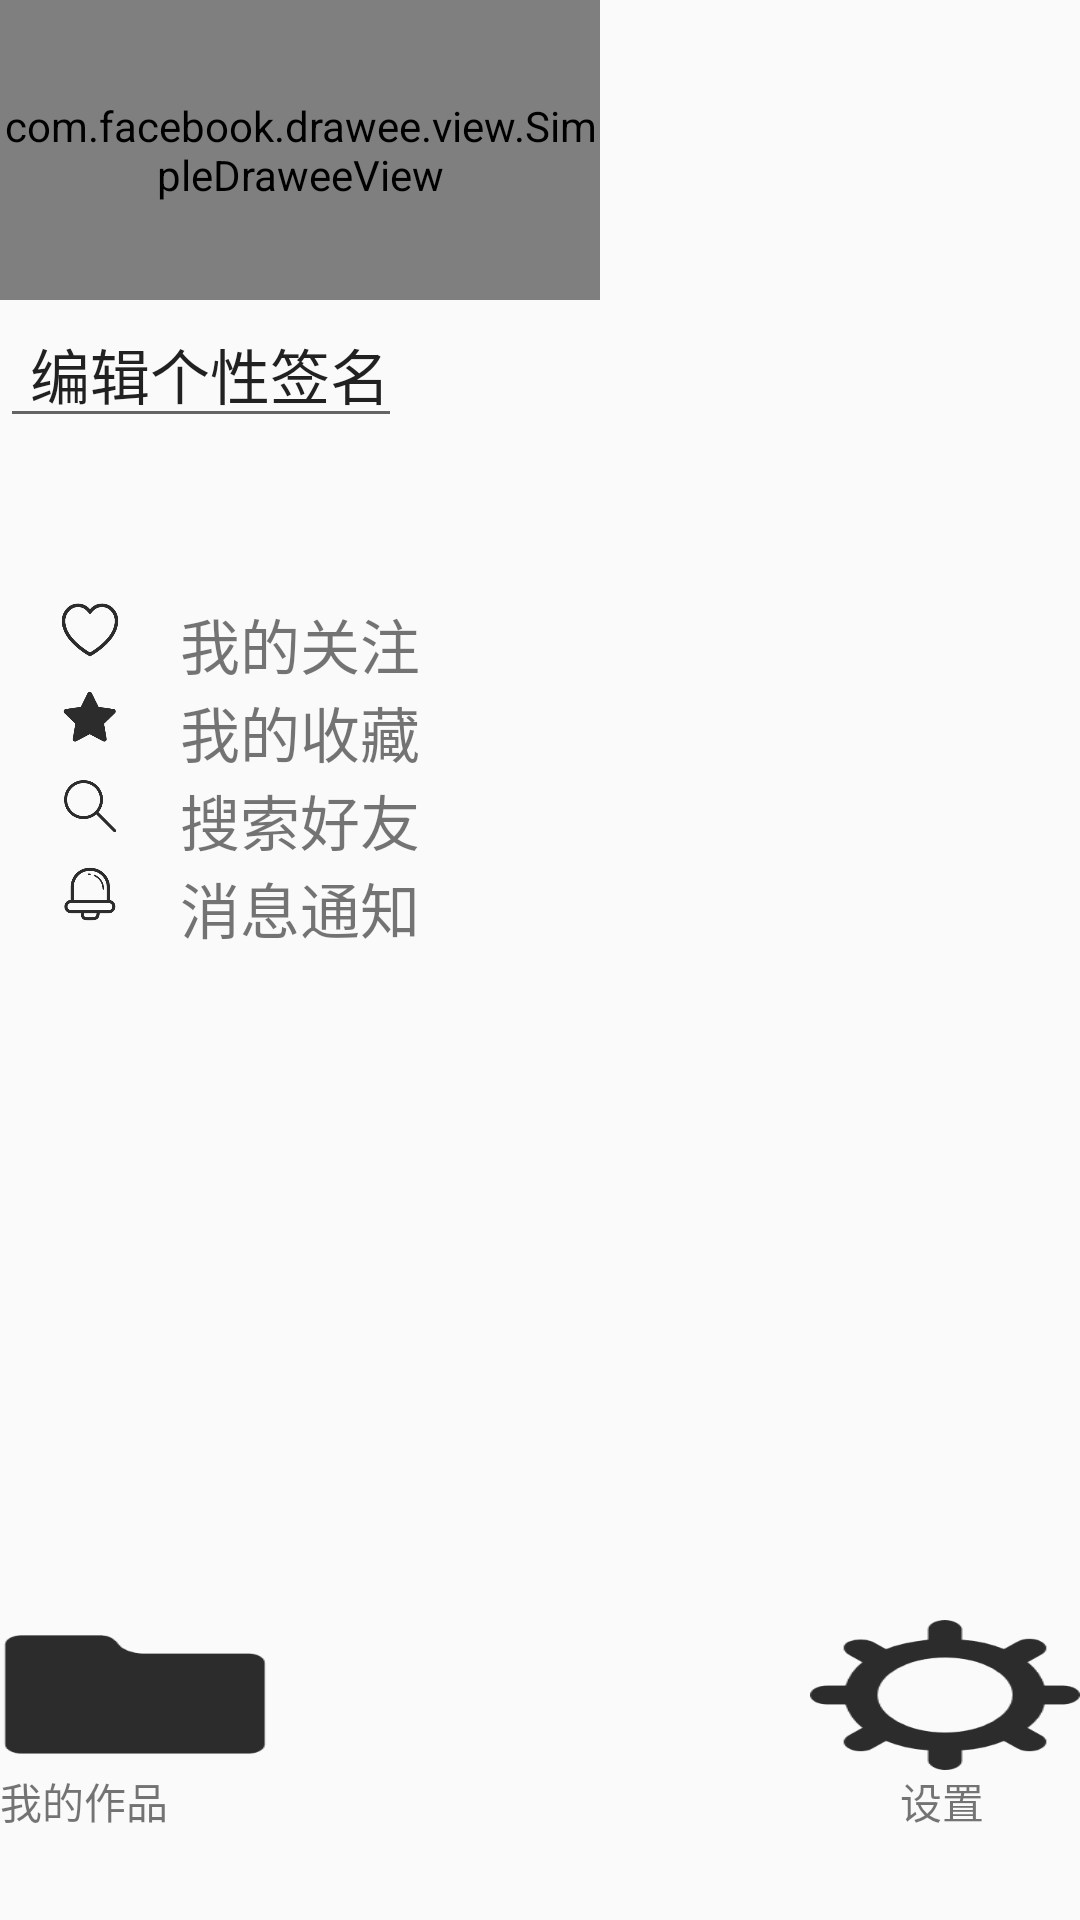

Screen size 1080w x 1920h. Icon name, then its center in pixels as (x=x, y=y):
blackh: (x=90, y=629)
blackmess: (x=90, y=894)
blacksearch: (x=90, y=806)
blackstart: (x=89, y=717)
